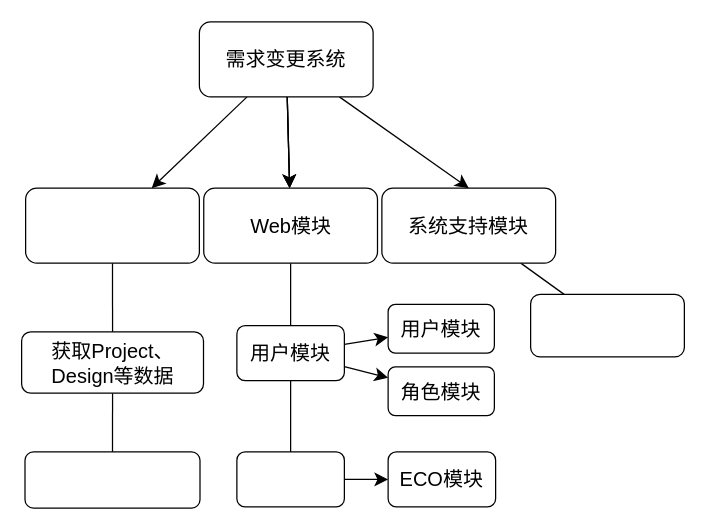
This 708x530 diagram has some shape labels left out. The shapes that lost their labels are listed below. From the top down, each one's centre as x and y in pixels, then its label:
At [111,225]: "数据同步模块".
At [606,325]: "系统日志收集".
At [112,479]: "同步ECO状态".
At [290,479]: "ECR模块".
